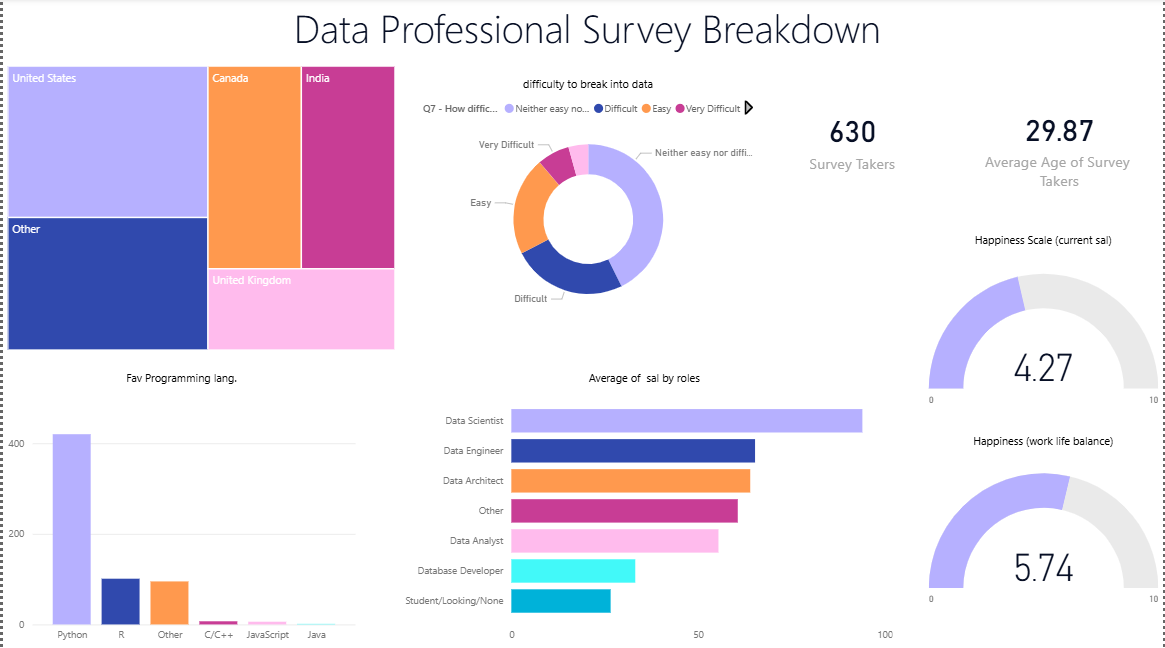

This screenshot's page, from the dashboard's own definition file:
{"tool":"powerbi","page":{"name":"Page 1","canvas":[1280,720],"ordinal":0},"visuals":[{"type":"textbox","box":[9.9,0,1270.5,69.6],"z":0},{"type":"card","fields":{"Values":["CountNonNull(Data Professional Survey.Unique ID)"]},"box":[823.3,71.2,228.6,170.6],"z":1000},{"type":"card","fields":{"Values":["Avg(Data Professional Survey.Q10 - Current Age)"]},"box":[1051.9,69.6,228.6,170.6],"z":2000},{"type":"barChart","title":"Average of  sal by roles","fields":{"Category":["Data Professional Survey.Q1 - Which Title Best Fits your Current Role?.1"],"Y":["Avg(Data Professional Survey.avg sal)"],"Series":["Data Professional Survey.Q1 - Which Title Best Fits your Current Role?.1"]},"box":[429,412.5,558.2,308.1],"z":3000},{"type":"columnChart","title":"Fav Programming lang.","fields":{"Category":["Data Professional Survey.Q5 - Favorite Programming Language.1"],"Y":["CountNonNull(Data Professional Survey.Unique ID)"],"Series":["Data Professional Survey.Q5 - Favorite Programming Language.1"]},"box":[0,412.5,394.2,308.1],"z":4000},{"type":"treemap","fields":{"Group":["Data Professional Survey.Q11 - Which Country do you live in?.1"],"Values":["Count(Data Professional Survey.avg sal)"]},"box":[0,71.2,437.3,323],"z":5000},{"type":"gauge","title":"Happiness Scale (current sal)","fields":{"Y":["Avg(Data Professional Survey.Q6 - How Happy are you in your Current Position with the following? (Salary))"],"MinValue":["Min(Data Professional Survey.Q6 - How Happy are you in your Current Position with the following? (Salary))1"],"MaxValue":["Max(Data Professional Survey.Q6 - How Happy are you in your Current Position with the following? (Salary))2"]},"box":[1017.1,260.1,263.4,222],"z":6000},{"type":"gauge","title":"Happiness (work life balance)","fields":{"Y":["Avg(Data Professional Survey.Q6 - How Happy are you in your Current Position with the following? (Work/Life Balance))"],"MinValue":["Min(Data Professional Survey.Q6 - How Happy are you in your Current Position with the following? (Work/Life Balance))1"],"MaxValue":["Max(Data Professional Survey.Q6 - How Happy are you in your Current Position with the following? (Work/Life Balance))"]},"box":[1017.1,482,263.4,218.7],"z":7000},{"type":"donutChart","title":"difficulty to break into data","fields":{"Category":["Data Professional Survey.Q7 - How difficult was it for you to break into Data?"],"Y":["CountNonNull(Data Professional Survey.Q7 - How difficult was it for you to break into Data?)"]},"box":[458.8,87.8,374.4,271.7],"z":8000}]}

Visuals, with their boxes in screenshot pixels (x1, y1, x2, y2), scaled from the page's 1280x720 canvas onto the 1165x648 screenshot:
textbox: {"x1": 9, "y1": 0, "x2": 1164, "y2": 63}
card - CountNonNull(Data Professional Survey.Unique ID): {"x1": 749, "y1": 64, "x2": 957, "y2": 218}
card - Avg(Data Professional Survey.Q10 - Current Age): {"x1": 957, "y1": 63, "x2": 1164, "y2": 216}
"Average of  sal by roles" barChart: {"x1": 390, "y1": 371, "x2": 899, "y2": 647}
"Fav Programming lang." columnChart: {"x1": 0, "y1": 371, "x2": 359, "y2": 647}
treemap - Data Professional Survey.Q11 - Which Country do you live in?.1 x Count(Data Professional Survey.avg sal): {"x1": 0, "y1": 64, "x2": 398, "y2": 355}
"Happiness Scale (current sal)" gauge: {"x1": 926, "y1": 234, "x2": 1164, "y2": 434}
"Happiness (work life balance)" gauge: {"x1": 926, "y1": 434, "x2": 1164, "y2": 631}
"difficulty to break into data" donutChart: {"x1": 418, "y1": 79, "x2": 758, "y2": 324}
